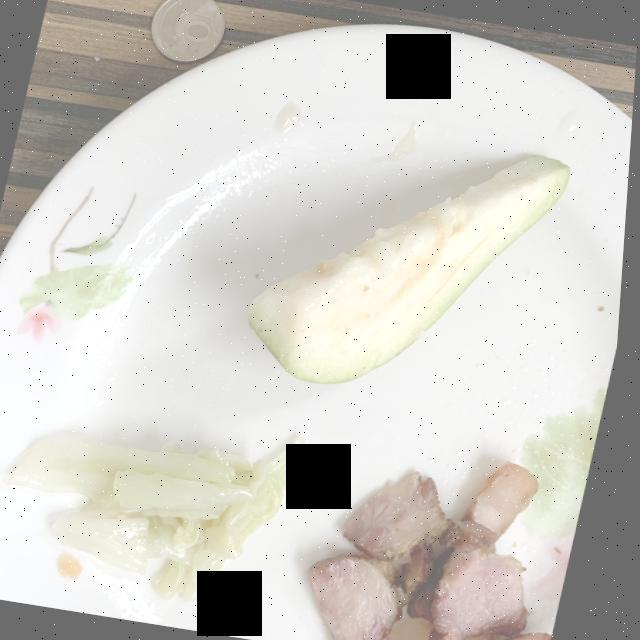cabbage: (11, 434, 315, 601)
coin: (151, 0, 224, 62)
grilled pork: (316, 462, 544, 640)
guava -sliced-: (252, 155, 572, 384)
